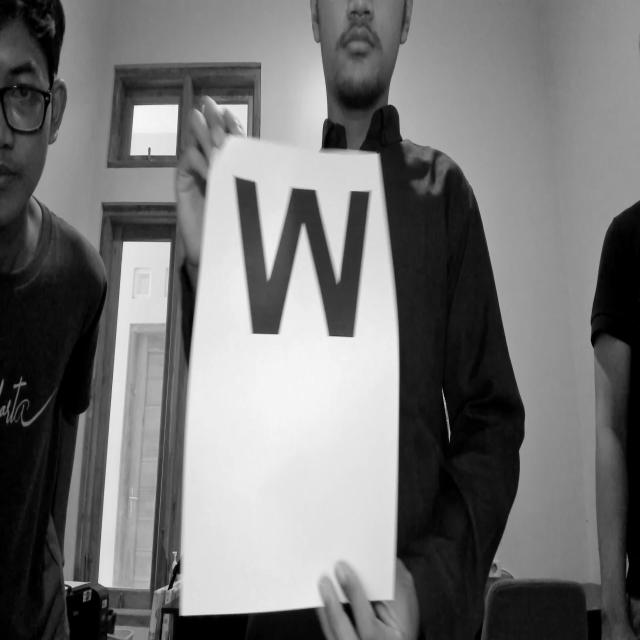w: (228, 161, 376, 369)
